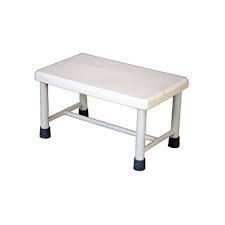stool: (34, 48, 190, 171)
